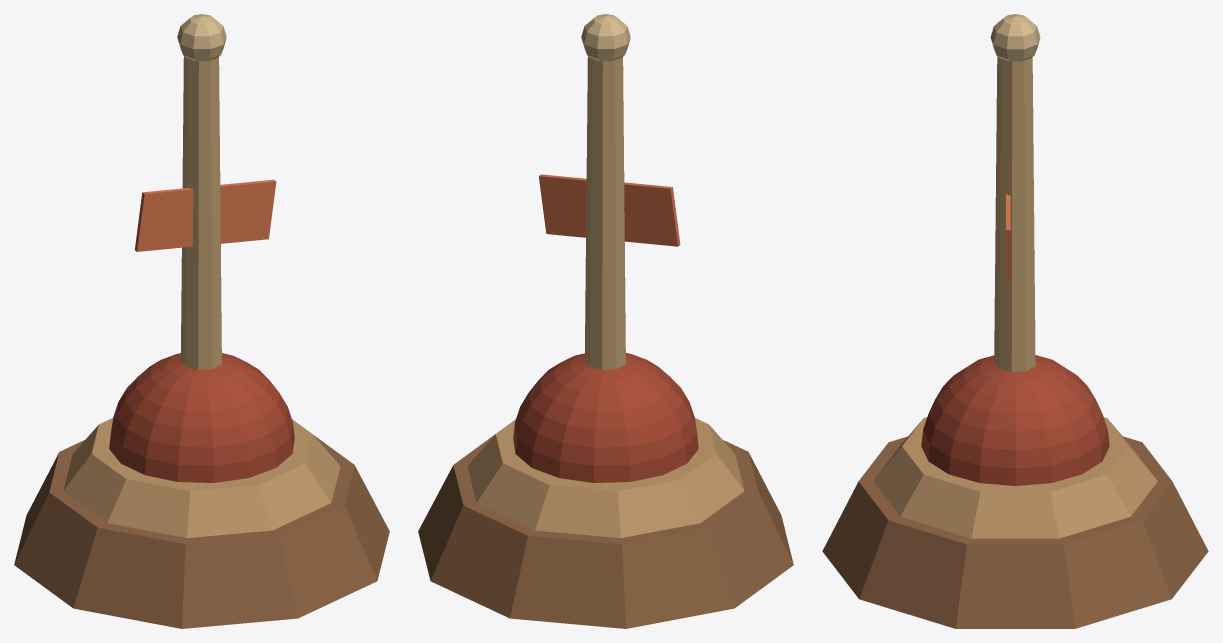
Rendered from plunger-shrine.glb.
3 views of the same model, side by side, from view 1: azimuth 30°, elevation 25°; view 2: azimuth 150°, elevation 25°; view 3: azimuth 270°, elevation 25° (orthographic).
Visible parts, largest first — view 1: plunger-shrine; view 2: plunger-shrine; view 3: plunger-shrine.
Boxes of the visible parts, x1=… form: plunger-shrine: x1=14, y1=14, x2=389, y2=628; plunger-shrine: x1=418, y1=14, x2=793, y2=628; plunger-shrine: x1=822, y1=14, x2=1208, y2=628.
Size of the model in its own units: 1.52 by 2.44 by 1.6.
